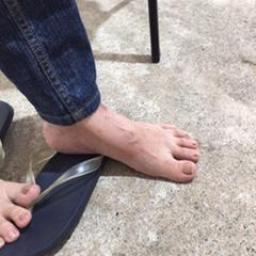Medial View -Left Foot-: (36, 87, 205, 188)
